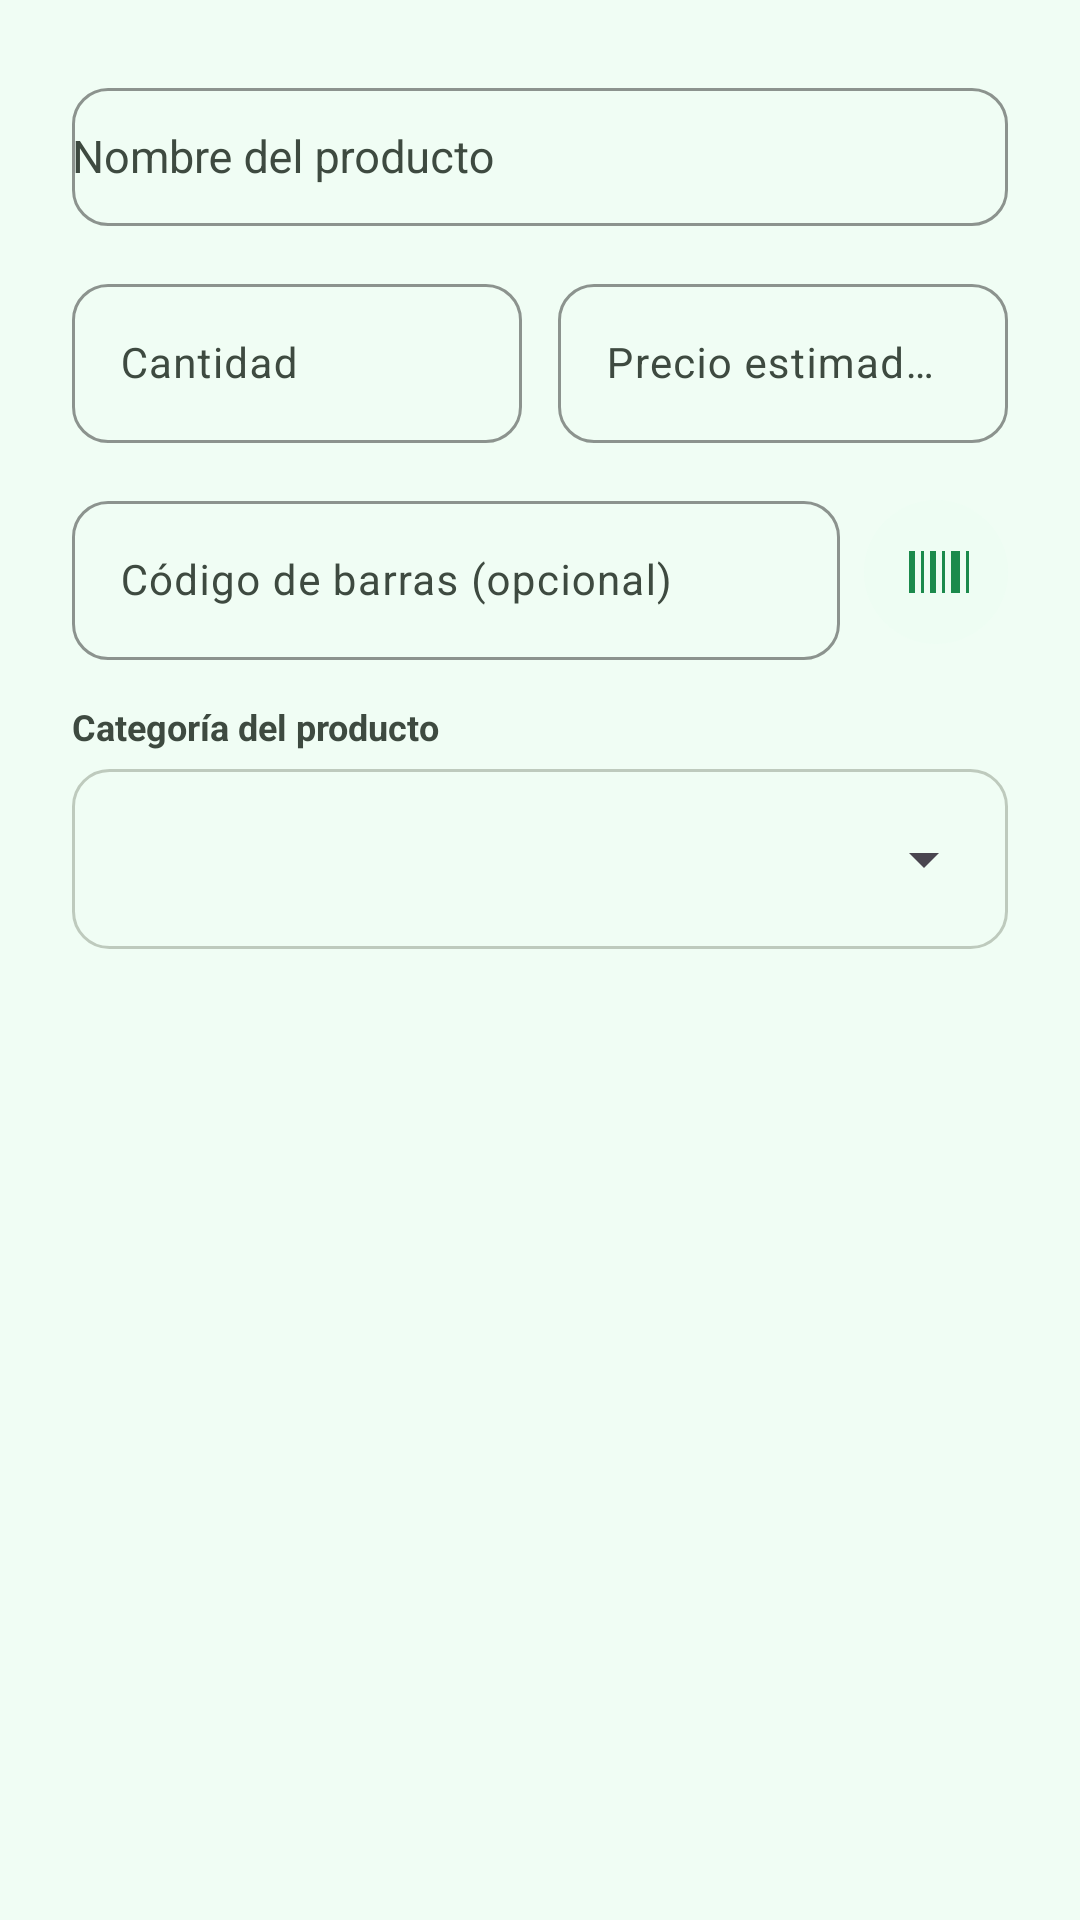

Locate icon controls on the screen. Image size 1080w x 1920h, boxes as {"x1": x1, "y1": y1, "x2": x2, "y2": y2}.
Escanear código: {"x1": 909, "y1": 551, "x2": 969, "y2": 593}
